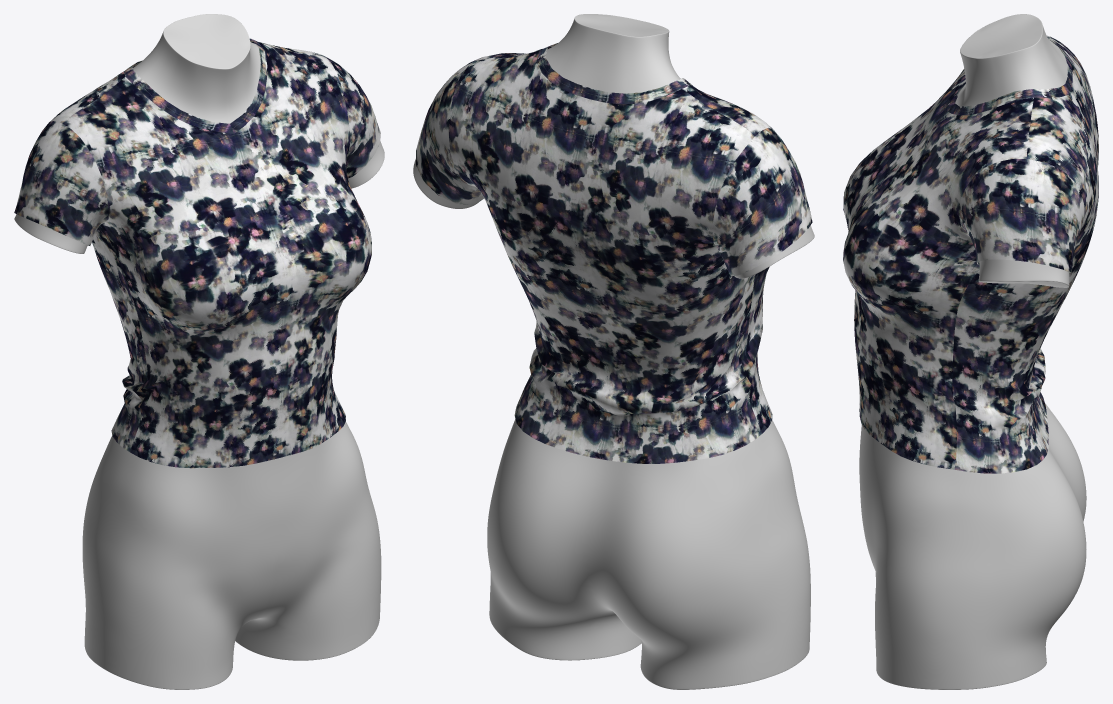
The model's file is dummy3.fbx.
3 renders of one model, left to right at view 1: azimuth 30°, elevation 25°; view 2: azimuth 150°, elevation 25°; view 3: azimuth 270°, elevation 25°, orthographic. The views are drawn at different scales.
Parts seen in each view (by area): view 1: 60, Obj_Avatar_Shape, 62, 21, 31, Pattern2D_3805017, Pattern2D_3805018, 63; view 2: 21, Obj_Avatar_Shape, 63, 30, 60, 62, Pattern2D_3805002; view 3: Obj_Avatar_Shape, 60, 21, 31, 30, Pattern2D_3805018, Pattern2D_3805002.
Boxes of the visible parts, bbox=[...] form: 60: bbox=[62, 42, 371, 468]; Obj_Avatar_Shape: bbox=[14, 14, 384, 689]; 62: bbox=[18, 122, 108, 245]; 21: bbox=[50, 40, 325, 451]; 31: bbox=[325, 56, 380, 178]; Pattern2D_3805017: bbox=[125, 71, 233, 133]; Pattern2D_3805018: bbox=[230, 39, 267, 133]; 63: bbox=[14, 121, 58, 214]; 21: bbox=[449, 50, 762, 463]; Obj_Avatar_Shape: bbox=[413, 14, 814, 689]; 63: bbox=[712, 141, 797, 276]; 30: bbox=[416, 65, 483, 205]; 60: bbox=[474, 47, 772, 433]; 62: bbox=[751, 128, 812, 239]; Pattern2D_3805002: bbox=[537, 47, 681, 103]; Obj_Avatar_Shape: bbox=[859, 14, 1086, 689]; 60: bbox=[843, 69, 1033, 469]; 21: bbox=[952, 35, 1098, 473]; 31: bbox=[958, 159, 1033, 266]; 30: bbox=[1030, 160, 1084, 276]; Pattern2D_3805018: bbox=[946, 89, 1033, 115]; Pattern2D_3805002: bbox=[1033, 40, 1072, 97].
Bounding box in the file's own units: 0.6039 × 0.9764 × 0.3705.
Materials: 2 (1 with a texture image).
